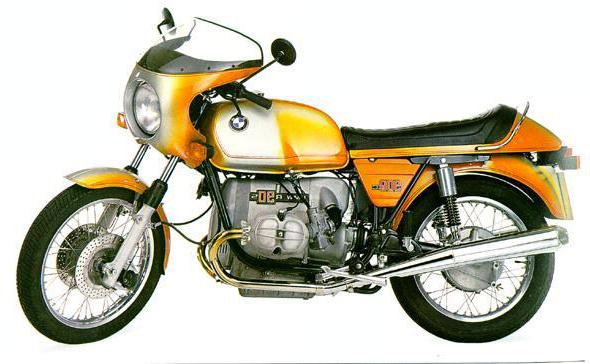motorcycle: (2, 4, 590, 360)
